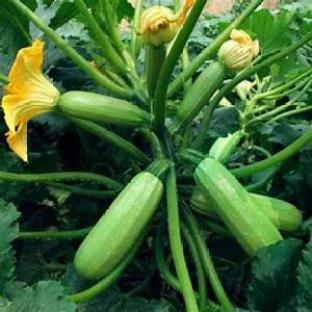Zucchini: (74, 172, 163, 278), (195, 159, 282, 255), (169, 62, 226, 134), (58, 91, 151, 126), (250, 194, 302, 231), (207, 129, 244, 163)
